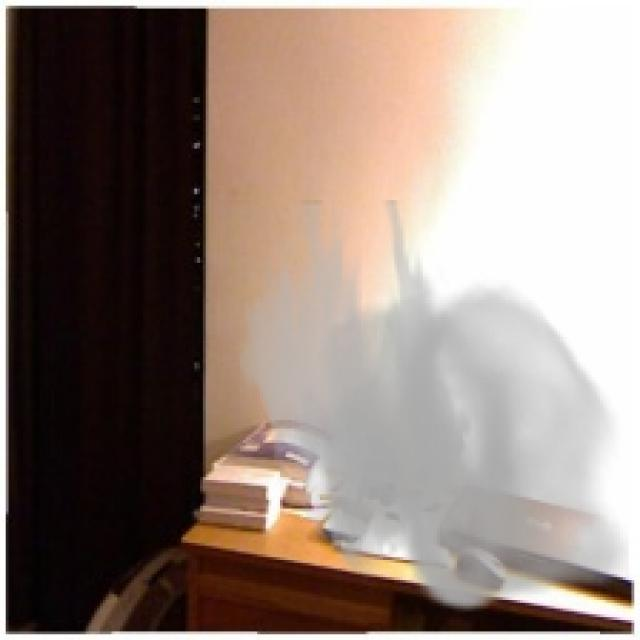smoke: (234, 200, 629, 611)
